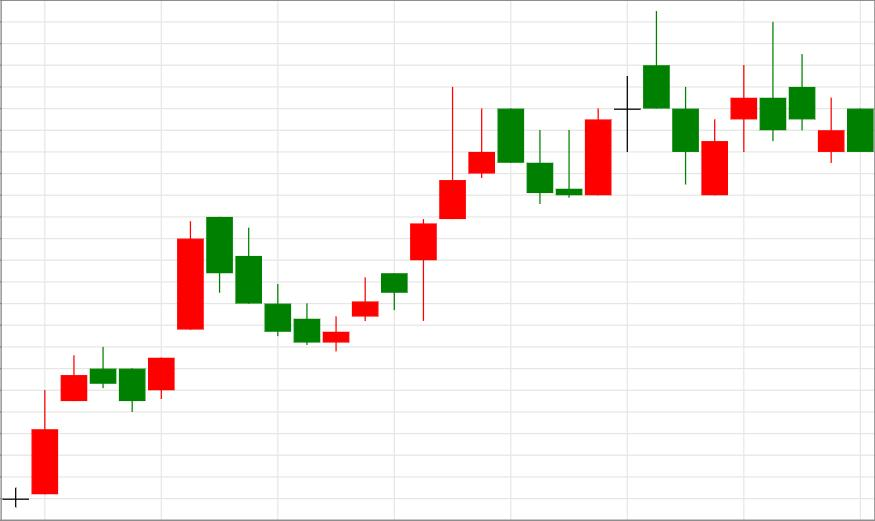shooting_star_fall: (323, 87, 467, 352)
